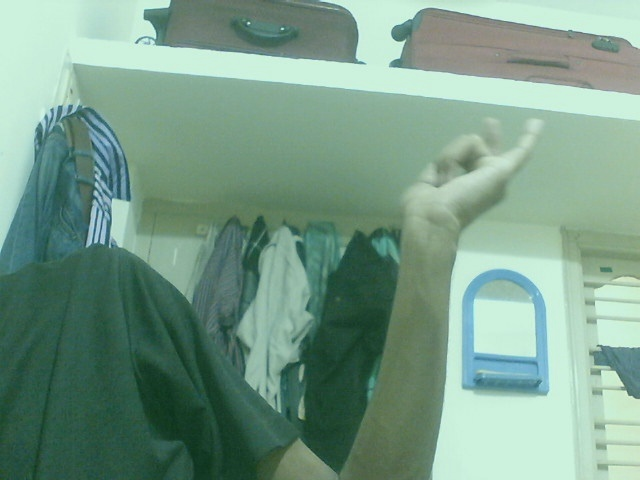hand: (396, 111, 545, 241)
